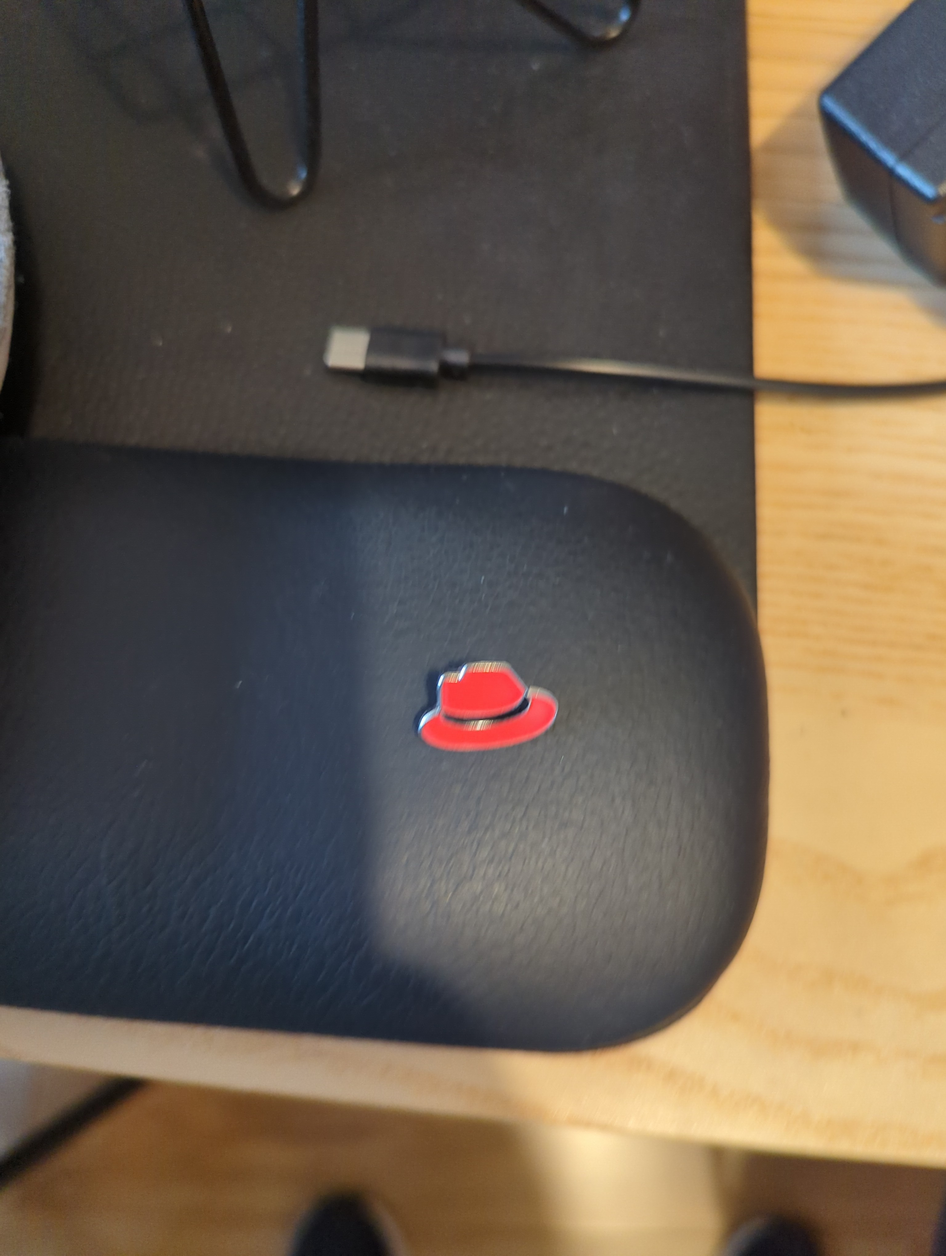Red-Hat: (344, 585, 668, 808)
